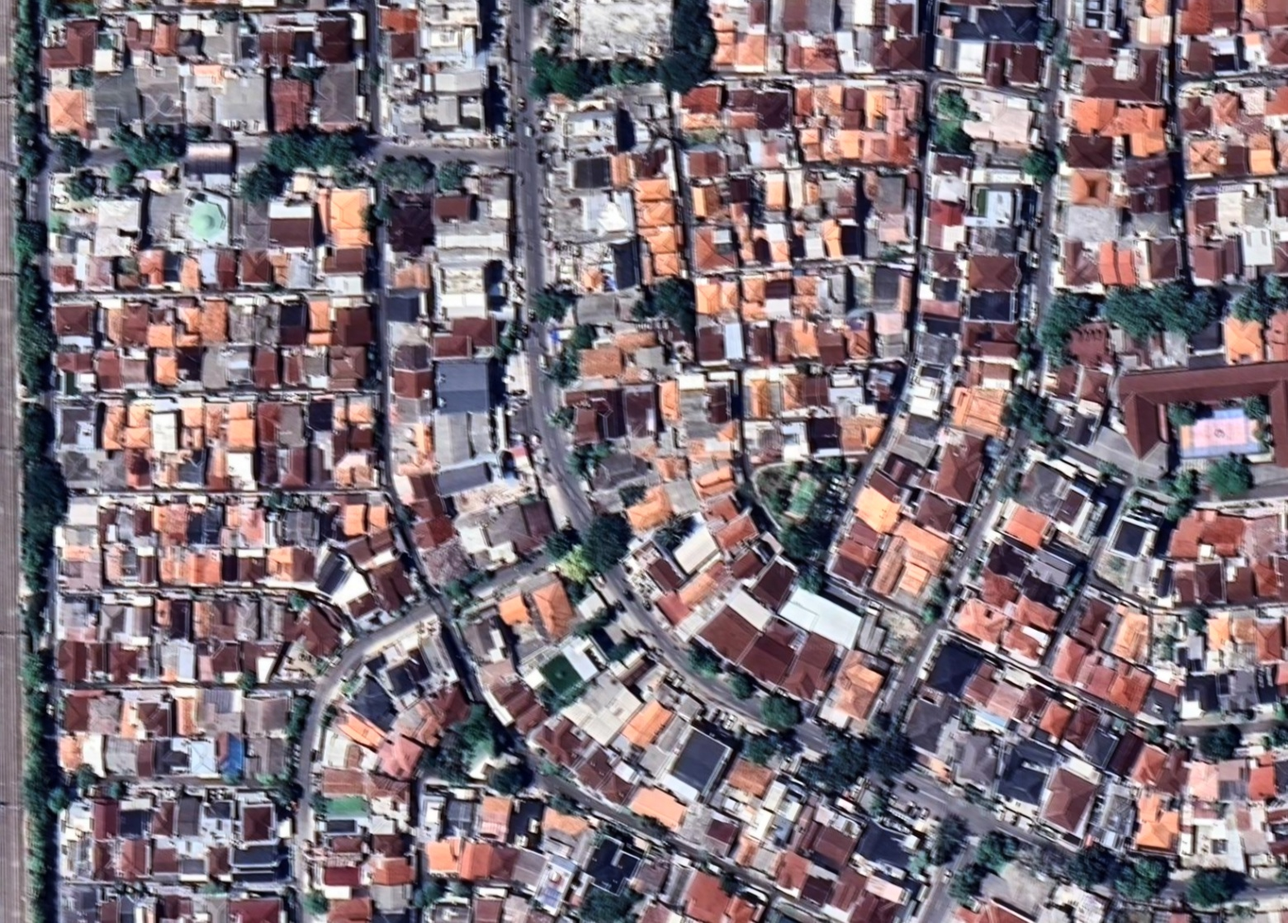building: (1116, 359, 1288, 467), (790, 75, 922, 167), (1175, 75, 1288, 182), (791, 78, 922, 167), (793, 81, 921, 166), (794, 81, 921, 166), (795, 81, 921, 166), (357, 618, 462, 714), (865, 513, 956, 614), (383, 672, 477, 763), (1080, 406, 1177, 494), (429, 171, 515, 266), (559, 664, 645, 750), (1065, 93, 1169, 157), (570, 0, 672, 64), (776, 580, 867, 650), (1089, 523, 1170, 601), (1033, 750, 1105, 837), (739, 773, 810, 861), (663, 719, 736, 799), (478, 665, 551, 743), (823, 510, 894, 590), (736, 614, 809, 691), (978, 851, 1057, 922), (822, 645, 892, 725), (989, 732, 1061, 809), (568, 742, 645, 814), (891, 681, 962, 757), (580, 437, 653, 510), (1180, 665, 1280, 718), (555, 94, 635, 159), (578, 825, 648, 899), (778, 629, 844, 707), (421, 833, 517, 886), (383, 411, 440, 499), (922, 149, 970, 252), (957, 85, 1038, 146), (793, 805, 863, 875), (1009, 448, 1077, 520), (852, 809, 924, 877), (1182, 130, 1276, 182), (710, 753, 776, 826), (919, 633, 986, 703), (455, 605, 519, 678), (1085, 776, 1144, 854), (1176, 813, 1252, 873), (528, 708, 596, 775), (1167, 506, 1246, 563), (695, 600, 762, 666), (930, 429, 988, 505), (1080, 48, 1161, 102), (936, 1, 1040, 43), (285, 598, 351, 664), (818, 359, 879, 430), (54, 505, 103, 593), (525, 570, 582, 643), (660, 512, 725, 576), (885, 515, 954, 575), (570, 238, 640, 296), (745, 549, 808, 613), (1100, 600, 1161, 666), (1184, 219, 1244, 285), (1066, 0, 1128, 63), (948, 592, 1013, 652), (1058, 482, 1118, 547), (133, 55, 186, 128), (1105, 501, 1164, 565), (673, 554, 735, 614), (629, 535, 689, 597), (419, 0, 478, 63), (85, 67, 143, 131), (345, 673, 407, 732), (947, 726, 1003, 791), (299, 541, 358, 601), (618, 693, 676, 754), (1132, 788, 1184, 855), (300, 541, 358, 601), (391, 463, 446, 526), (676, 867, 737, 923), (855, 25, 926, 73), (417, 533, 476, 590), (556, 625, 613, 684), (403, 492, 458, 553), (901, 365, 945, 441), (627, 780, 690, 833), (214, 70, 266, 134), (433, 357, 491, 414), (846, 483, 906, 538), (619, 482, 678, 537), (364, 555, 418, 615), (1066, 588, 1118, 650), (311, 61, 358, 128), (528, 852, 577, 916), (435, 262, 489, 320), (428, 315, 497, 360), (949, 384, 1006, 438), (1077, 711, 1128, 770), (688, 459, 744, 512), (1032, 884, 1108, 923), (427, 407, 474, 470), (329, 704, 387, 755), (725, 83, 789, 129), (92, 194, 140, 255), (306, 724, 360, 778), (386, 192, 433, 254), (1103, 660, 1155, 716), (672, 370, 714, 439), (980, 534, 1035, 586), (996, 500, 1052, 551), (996, 616, 1052, 667), (675, 81, 728, 134), (180, 193, 231, 248), (1102, 723, 1150, 781), (43, 17, 96, 69), (119, 688, 172, 740), (821, 863, 871, 918), (1050, 472, 1097, 530), (1187, 756, 1247, 801), (1136, 678, 1186, 732), (725, 129, 792, 169), (654, 853, 701, 910), (230, 842, 289, 887), (1024, 542, 1077, 592), (725, 537, 778, 587), (1178, 35, 1242, 76), (606, 641, 658, 691), (969, 566, 1022, 615), (979, 674, 1028, 727), (432, 457, 495, 498), (326, 188, 369, 248), (1153, 743, 1198, 800), (909, 488, 961, 537), (1044, 633, 1091, 687), (960, 321, 1020, 363), (1061, 395, 1106, 451), (983, 43, 1040, 87), (724, 584, 776, 632), (502, 793, 546, 849), (175, 299, 227, 346), (723, 754, 775, 801), (269, 75, 312, 131), (480, 500, 530, 548), (690, 221, 737, 272), (181, 498, 227, 550), (243, 734, 289, 786), (783, 33, 839, 75), (328, 566, 375, 616), (697, 810, 744, 860), (1059, 700, 1104, 752), (629, 848, 674, 900), (146, 189, 187, 246), (102, 543, 156, 586), (267, 198, 313, 248), (741, 416, 786, 467), (1033, 692, 1077, 744), (1127, 739, 1171, 791), (1060, 204, 1120, 242), (537, 805, 591, 847), (195, 687, 242, 735), (1010, 678, 1054, 729), (710, 510, 761, 554), (961, 657, 1004, 709), (741, 368, 783, 421), (1067, 320, 1112, 369), (965, 252, 1020, 292), (784, 34, 839, 74), (242, 693, 292, 737), (673, 799, 717, 849), (769, 847, 813, 897), (1009, 593, 1060, 636), (887, 425, 937, 468), (1177, 0, 1238, 35), (473, 791, 514, 843), (265, 544, 315, 586), (1063, 129, 1114, 170), (312, 13, 352, 65), (621, 383, 658, 439), (591, 767, 638, 811), (439, 793, 482, 841), (1102, 325, 1153, 365), (104, 300, 148, 346), (888, 426, 936, 468), (1082, 653, 1124, 701), (54, 593, 96, 641), (56, 640, 104, 682), (518, 492, 558, 542), (1243, 512, 1288, 556), (508, 846, 548, 895), (1122, 152, 1173, 190), (104, 642, 148, 686), (414, 786, 447, 844), (331, 303, 374, 347), (701, 490, 746, 532), (661, 473, 702, 519), (46, 87, 87, 133), (1095, 239, 1135, 286), (231, 198, 267, 250), (56, 403, 95, 451), (846, 888, 899, 923), (695, 277, 738, 320), (386, 317, 430, 359), (278, 504, 320, 548), (1152, 330, 1193, 375), (327, 345, 368, 390), (1223, 317, 1263, 363), (863, 467, 909, 507), (837, 414, 883, 454), (200, 21, 240, 67), (953, 900, 1033, 923), (873, 36, 924, 72), (918, 279, 960, 322), (235, 639, 277, 682), (183, 140, 234, 175), (149, 736, 191, 778), (652, 586, 693, 628), (136, 247, 179, 287), (1061, 240, 1098, 286), (1220, 560, 1257, 606), (493, 590, 533, 632), (155, 640, 195, 682), (150, 502, 188, 546), (914, 330, 959, 367), (762, 217, 794, 269), (56, 451, 102, 487), (257, 597, 292, 644), (579, 342, 623, 379), (736, 273, 769, 322), (678, 82, 724, 117), (1175, 93, 1214, 134), (57, 884, 98, 923), (227, 894, 282, 923), (153, 597, 190, 640), (754, 85, 790, 129), (1146, 237, 1181, 282), (841, 317, 876, 362), (1069, 168, 1111, 205), (333, 450, 375, 487), (58, 688, 91, 735), (228, 841, 278, 872), (805, 414, 841, 457), (1244, 82, 1288, 117), (872, 171, 907, 215), (86, 691, 121, 735), (966, 290, 1014, 322), (610, 239, 640, 290), (603, 265, 641, 305), (1109, 238, 1140, 287), (814, 320, 847, 366), (630, 144, 671, 181), (595, 191, 631, 233), (388, 257, 430, 293), (1151, 902, 1222, 923), (862, 871, 907, 904), (226, 400, 254, 453), (1183, 674, 1220, 714), (671, 606, 711, 643), (382, 740, 419, 780), (1075, 365, 1111, 406), (1193, 559, 1225, 605), (1005, 43, 1040, 85), (390, 391, 432, 426), (1241, 0, 1288, 31), (612, 324, 659, 355), (465, 409, 496, 456), (1185, 138, 1223, 176), (797, 871, 835, 909), (969, 225, 1017, 255), (195, 300, 227, 345), (1184, 320, 1225, 355), (53, 302, 95, 336), (60, 834, 91, 880), (684, 147, 727, 180), (103, 734, 136, 777), (738, 274, 768, 321), (1190, 241, 1224, 282), (569, 156, 610, 190), (240, 802, 274, 843), (1127, 126, 1169, 159), (277, 300, 307, 346), (257, 28, 293, 66), (872, 265, 901, 312), (1241, 29, 1275, 69), (209, 641, 242, 682), (1250, 554, 1280, 599), (362, 771, 407, 801), (1247, 755, 1276, 801), (574, 293, 617, 324), (118, 347, 149, 390), (1240, 227, 1274, 266), (864, 363, 897, 403), (954, 40, 986, 81), (635, 197, 676, 229), (149, 16, 181, 57), (321, 245, 366, 274), (250, 301, 279, 346), (319, 768, 364, 797), (124, 601, 153, 646), (433, 67, 483, 93), (685, 435, 733, 462), (875, 211, 910, 248), (1179, 37, 1213, 75), (1071, 647, 1101, 690), (173, 793, 201, 839), (326, 895, 372, 923), (425, 895, 471, 923), (721, 894, 765, 923), (1255, 618, 1283, 663), (779, 419, 809, 461), (117, 839, 147, 881), (689, 182, 722, 220), (734, 33, 767, 71), (629, 342, 667, 375), (343, 590, 381, 623), (1216, 186, 1243, 232), (423, 0, 477, 23), (1187, 761, 1218, 801), (694, 324, 725, 364), (277, 446, 307, 487), (371, 856, 412, 886), (219, 734, 244, 783), (789, 317, 818, 359), (1171, 561, 1198, 606), (277, 402, 304, 447), (91, 796, 118, 841), (1128, 186, 1171, 214), (251, 346, 279, 389), (300, 346, 328, 389), (970, 164, 1030, 184), (656, 378, 681, 426), (602, 389, 626, 439), (391, 369, 431, 399), (173, 690, 198, 738), (233, 595, 259, 641), (385, 29, 420, 63), (1266, 802, 1288, 856), (188, 550, 221, 586), (643, 224, 681, 255), (154, 892, 192, 923), (1131, 211, 1173, 239), (779, 370, 807, 412), (763, 277, 791, 319), (123, 447, 151, 489), (210, 643, 240, 682), (200, 346, 227, 389), (208, 598, 235, 641), (149, 795, 176, 838), (570, 404, 599, 444), (96, 602, 125, 642), (887, 0, 919, 36), (307, 298, 331, 346), (255, 400, 280, 446), (183, 87, 214, 124), (432, 190, 469, 221), (745, 806, 776, 843), (633, 174, 671, 204), (95, 348, 122, 390), (237, 506, 264, 548), (369, 885, 411, 912), (379, 3, 418, 32), (1239, 823, 1271, 858), (792, 274, 818, 317), (714, 16, 735, 69), (977, 360, 1014, 390), (727, 201, 752, 245), (227, 303, 253, 345), (97, 451, 125, 490), (653, 452, 688, 483), (1266, 310, 1288, 359), (1266, 807, 1288, 856), (80, 734, 105, 777), (187, 739, 216, 776), (733, 832, 762, 869), (1241, 190, 1269, 228), (289, 29, 317, 67), (101, 404, 124, 450), (1137, 15, 1170, 47), (125, 404, 149, 448), (457, 523, 489, 556), (363, 525, 397, 556), (423, 96, 458, 126), (239, 249, 269, 284), (469, 893, 504, 923), (176, 346, 205, 382), (150, 411, 176, 451), (771, 319, 795, 362), (748, 322, 772, 365), (608, 151, 634, 190), (137, 248, 163, 287), (152, 348, 178, 387), (706, 381, 729, 425), (324, 796, 368, 819), (1211, 89, 1239, 125), (721, 319, 745, 361), (1263, 27, 1288, 67), (1052, 362, 1079, 399), (673, 691, 704, 723), (205, 446, 227, 491), (834, 30, 857, 73), (123, 16, 152, 50), (385, 293, 419, 322), (365, 500, 393, 535), (150, 840, 178, 875), (802, 372, 829, 408), (176, 451, 203, 487), (1252, 896, 1288, 923), (986, 189, 1012, 226), (287, 250, 313, 287), (392, 344, 429, 370), (340, 503, 366, 540), (278, 607, 304, 644), (117, 808, 148, 839), (91, 841, 115, 881), (1221, 142, 1249, 176), (650, 250, 684, 278), (762, 171, 786, 210), (458, 94, 484, 130), (876, 331, 907, 361), (828, 272, 848, 318), (85, 256, 112, 290), (369, 831, 404, 857), (215, 248, 236, 291), (202, 401, 224, 442), (860, 132, 888, 164), (65, 496, 97, 524), (807, 0, 834, 33), (55, 348, 92, 372), (226, 346, 250, 383), (907, 393, 941, 419), (786, 168, 807, 210), (928, 200, 963, 225), (57, 735, 82, 770), (61, 801, 90, 831), (502, 893, 531, 923), (486, 540, 517, 568), (781, 0, 808, 32), (821, 219, 842, 260), (96, 504, 118, 543), (734, 228, 757, 265), (1190, 799, 1224, 824), (1206, 615, 1230, 650), (740, 0, 768, 30), (281, 348, 303, 386), (397, 101, 423, 133), (307, 399, 333, 431), (801, 180, 821, 221), (346, 395, 373, 425), (226, 451, 253, 481), (873, 310, 905, 335), (865, 86, 884, 128), (321, 865, 359, 886), (1192, 195, 1217, 226), (802, 227, 825, 260), (60, 209, 93, 232), (931, 249, 959, 276), (178, 396, 203, 426), (117, 893, 142, 923), (196, 249, 217, 284), (328, 834, 363, 855), (237, 557, 265, 583), (259, 446, 278, 484), (1035, 903, 1071, 923), (818, 174, 836, 213), (177, 28, 202, 56), (48, 231, 77, 255), (153, 455, 175, 486), (49, 264, 75, 290), (348, 425, 374, 451), (1230, 617, 1255, 644), (147, 322, 174, 347), (930, 278, 959, 301), (207, 847, 229, 877), (838, 129, 860, 158), (1177, 825, 1196, 858), (179, 857, 206, 880), (1274, 751, 1288, 795), (205, 895, 227, 923), (1186, 633, 1203, 669), (750, 236, 771, 265), (840, 225, 860, 255), (391, 63, 415, 88), (332, 425, 347, 465), (726, 176, 749, 202), (580, 195, 597, 230), (120, 701, 136, 738), (203, 799, 231, 820), (132, 507, 152, 536), (1275, 129, 1288, 172), (764, 279, 791, 299), (1116, 504, 1139, 527), (1272, 241, 1288, 274), (368, 815, 395, 834), (1248, 801, 1265, 831), (852, 0, 873, 24), (864, 227, 879, 260), (789, 234, 806, 262), (1234, 804, 1250, 833), (1274, 185, 1288, 216), (1143, 0, 1169, 16), (224, 503, 240, 528), (333, 468, 353, 487), (932, 45, 948, 68), (392, 397, 416, 406), (1146, 525, 1158, 537), (136, 741, 140, 776), (647, 103, 655, 118), (392, 359, 403, 367), (359, 426, 371, 432), (334, 427, 341, 435), (363, 398, 370, 405)
tree: (797, 717, 884, 808), (1142, 273, 1230, 342), (568, 505, 642, 578), (445, 698, 515, 770), (1095, 278, 1169, 343), (649, 42, 717, 100), (1060, 836, 1122, 899), (859, 726, 922, 786), (665, 0, 722, 62), (415, 734, 477, 791), (300, 125, 370, 174), (232, 155, 295, 209), (18, 455, 67, 524), (1109, 851, 1171, 905), (124, 124, 189, 175), (1225, 278, 1282, 335), (1031, 310, 1080, 370), (644, 272, 699, 324), (5, 531, 57, 583), (1018, 836, 1071, 886), (1201, 452, 1256, 500), (970, 826, 1020, 877), (1045, 284, 1097, 332), (6, 263, 49, 321), (436, 566, 496, 607), (927, 813, 970, 870), (576, 886, 642, 923), (677, 639, 730, 685), (753, 463, 798, 515), (1194, 720, 1246, 765), (1002, 385, 1049, 434), (1156, 462, 1205, 509), (1185, 869, 1243, 908), (540, 346, 587, 394), (797, 485, 844, 533), (372, 155, 434, 190), (933, 119, 980, 165), (265, 129, 316, 171), (13, 503, 60, 548), (18, 403, 54, 461), (537, 521, 584, 565), (946, 859, 987, 909), (549, 57, 597, 99), (553, 546, 597, 591), (13, 313, 56, 359), (718, 662, 762, 706), (578, 601, 625, 642), (1016, 143, 1061, 185), (11, 214, 47, 266), (406, 873, 449, 915), (279, 689, 313, 742), (780, 524, 829, 560), (652, 513, 695, 554), (530, 752, 576, 790), (543, 788, 592, 823), (567, 439, 614, 475), (742, 730, 789, 765), (101, 154, 142, 194), (760, 692, 802, 731), (531, 286, 572, 323), (488, 761, 531, 796), (596, 58, 651, 85), (431, 157, 472, 193), (20, 706, 56, 746), (18, 352, 51, 395), (304, 788, 343, 823), (22, 742, 56, 782), (600, 633, 645, 663), (41, 780, 77, 816), (270, 775, 306, 811), (7, 40, 40, 79), (21, 649, 52, 690), (522, 67, 557, 103), (543, 16, 578, 52), (107, 121, 142, 155), (63, 170, 96, 205), (670, 304, 703, 338), (1159, 493, 1194, 525), (27, 830, 53, 873), (532, 683, 565, 716), (388, 498, 421, 531), (935, 87, 967, 121), (1011, 343, 1043, 377), (10, 107, 41, 142), (491, 329, 522, 364), (23, 775, 53, 811), (69, 762, 101, 795), (626, 294, 660, 325), (1166, 400, 1202, 429), (15, 70, 41, 109), (561, 323, 597, 351), (232, 667, 264, 698), (16, 143, 43, 179), (554, 683, 590, 710), (813, 453, 850, 479), (616, 481, 650, 509), (865, 787, 892, 822), (796, 564, 827, 594), (1263, 274, 1288, 310), (300, 889, 332, 917), (440, 878, 478, 901), (547, 401, 577, 430), (14, 16, 39, 50), (1027, 420, 1056, 449), (257, 768, 297, 789), (866, 710, 894, 740), (330, 165, 366, 188), (209, 1, 243, 25), (369, 193, 396, 223), (1035, 16, 1062, 46), (531, 47, 559, 75), (40, 0, 74, 23), (1240, 396, 1271, 421), (200, 874, 233, 897), (1013, 323, 1040, 351), (15, 0, 43, 26), (1096, 460, 1129, 482), (288, 63, 324, 83), (26, 805, 53, 831), (21, 569, 48, 595), (918, 601, 943, 628), (1264, 722, 1288, 750), (930, 575, 952, 605), (24, 689, 49, 715), (284, 588, 309, 614), (1238, 701, 1264, 726), (1009, 449, 1035, 474), (880, 243, 909, 265), (998, 473, 1020, 501), (67, 0, 101, 18), (1054, 37, 1073, 69), (22, 612, 44, 639), (317, 703, 339, 730), (909, 847, 931, 874), (961, 784, 988, 806), (28, 867, 47, 898), (1105, 905, 1136, 923), (1254, 426, 1274, 453), (567, 581, 588, 606), (184, 124, 213, 142), (27, 900, 49, 923), (69, 68, 93, 89), (1184, 610, 1208, 631), (266, 490, 291, 510), (107, 778, 128, 800), (965, 559, 984, 582), (1146, 725, 1165, 744), (1044, 444, 1064, 461), (1056, 141, 1070, 163), (1134, 477, 1156, 491), (1128, 490, 1145, 507), (1276, 862, 1288, 886), (1275, 702, 1288, 720)
